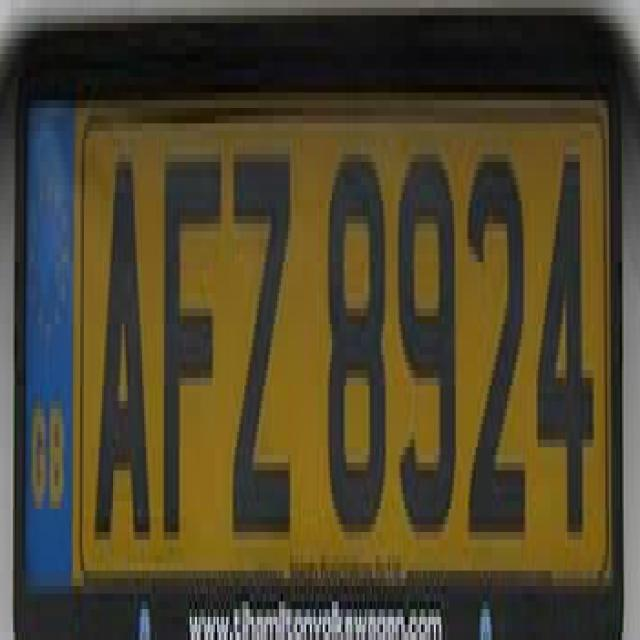Autre: (22, 93, 618, 625)
